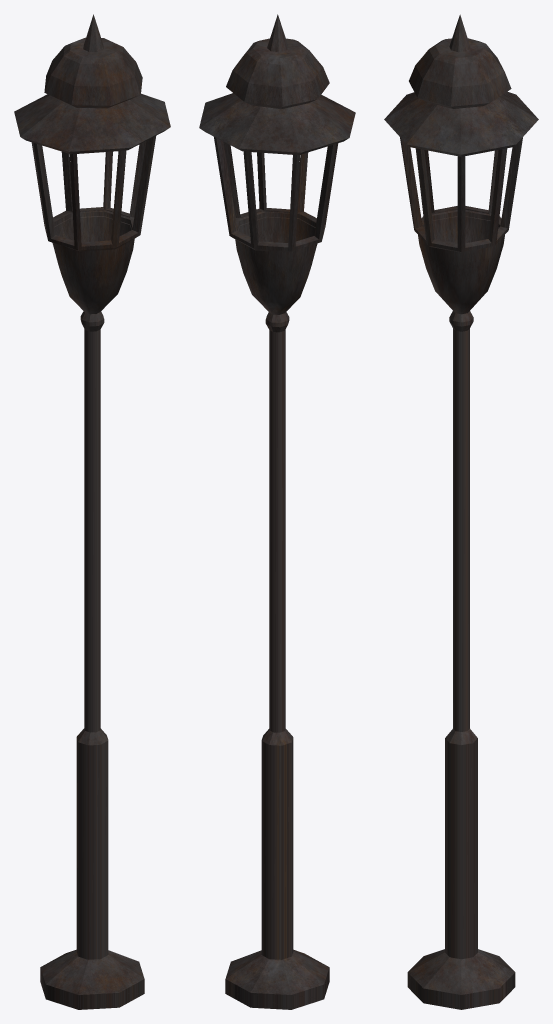
Rendered from Lantern.FBX.
The picture shows the model from 3 angles, left to right: view 1: azimuth 30°, elevation 25°; view 2: azimuth 150°, elevation 25°; view 3: azimuth 270°, elevation 25°; orthographic projection.
Parts seen in each view (by area): view 1: Cylinder001, Cylinder002; view 2: Cylinder001, Cylinder002; view 3: Cylinder001, Cylinder002.
Part boxes in pixels (x1,y1,x2,y2): Cylinder001: (40,211,144,1009); Cylinder002: (14,14,170,251); Cylinder001: (225,212,329,1009); Cylinder002: (199,14,355,252); Cylinder001: (407,211,515,1009); Cylinder002: (384,14,538,252).
Size of the model in its own units: 20.15 by 130 by 18.73.
Materials: 1 (1 with a texture image).
